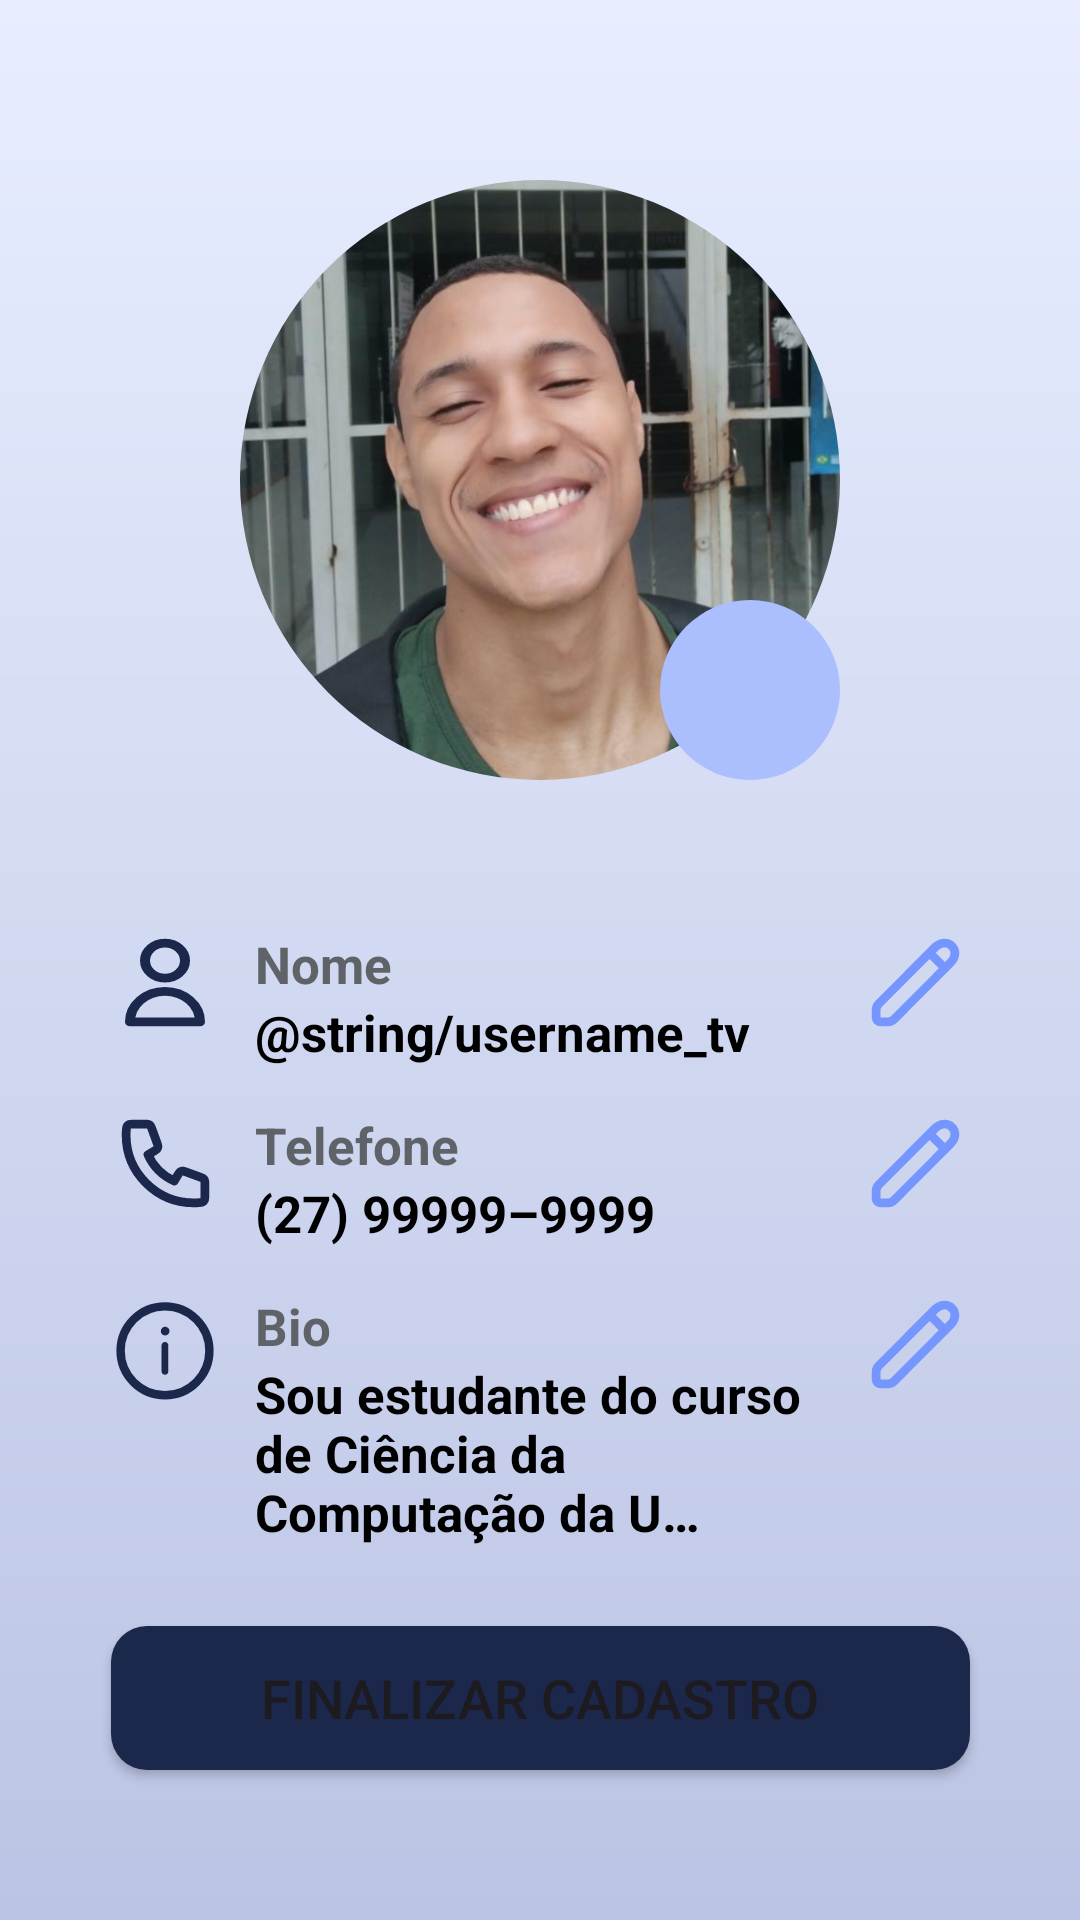

Named icons in this screenshot (1080*1920) and their centers, [x,y]:
pencil: [915,983], [915,1163], [915,1344]
Ícone de informação: [165,1351]
